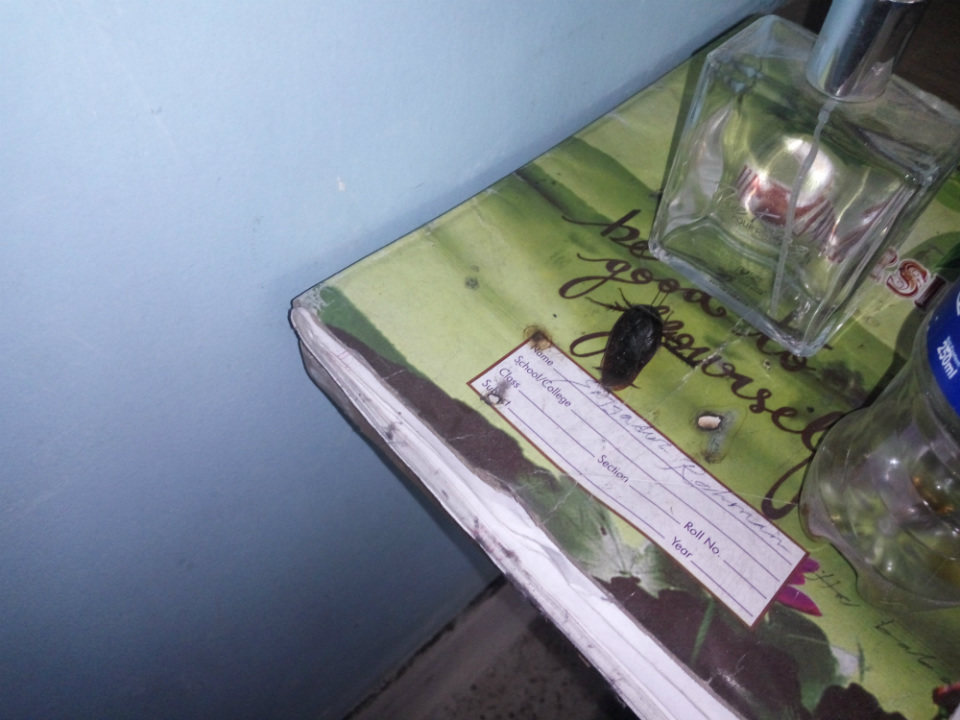cockroach: (531, 262, 728, 422)
